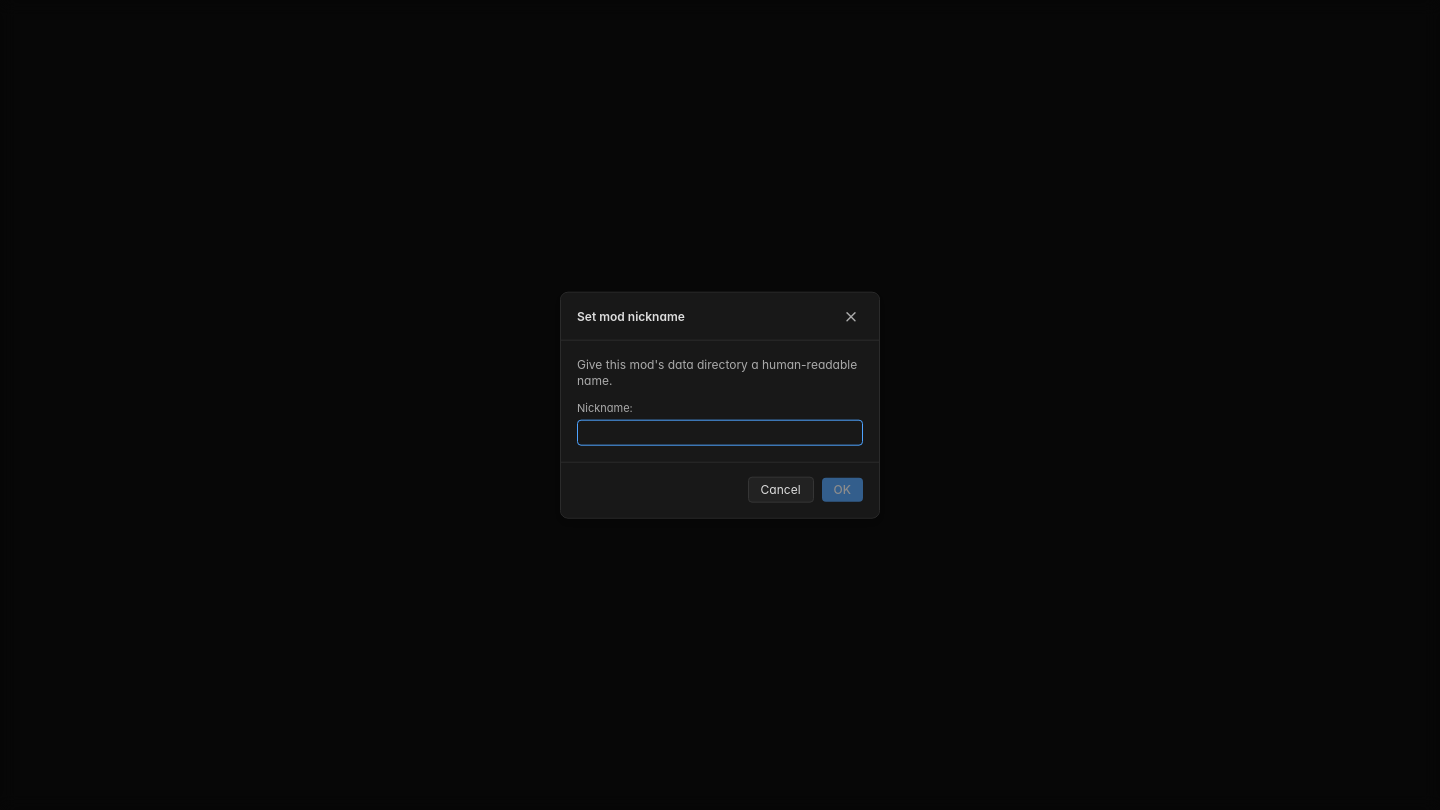
ModNicknameDialog › renders the text input and OK is disabled while empty, then enables on typing
The width and height of the screenshot is (1440, 810).
Expected: the button "OK" is disabled, [822, 478, 863, 502]
Type "MyMod" into the field named "Mod nickname".
click(720, 432); type("MyMod")  # box [577, 419, 863, 445]
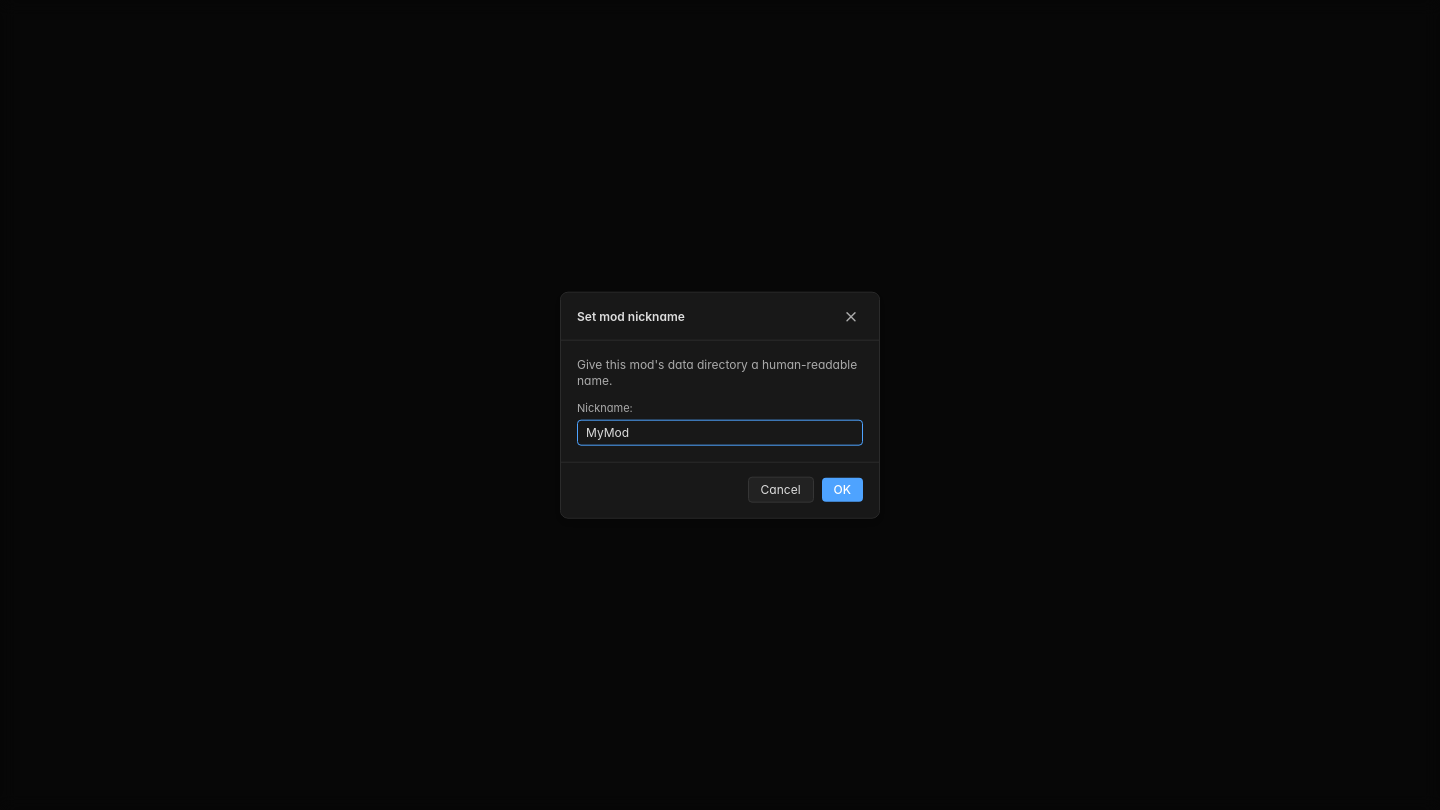
Now the button "OK" is enabled, box [822, 478, 863, 502]
